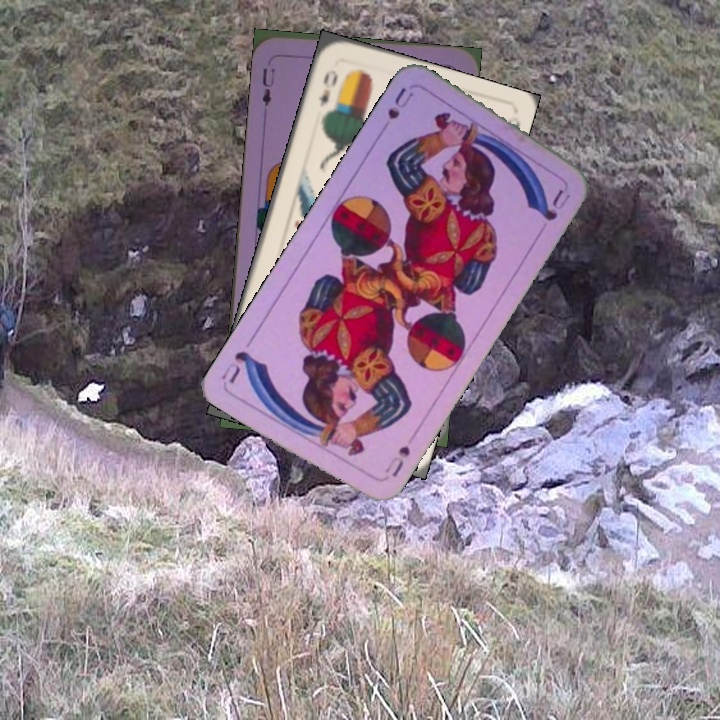EO: (315, 65, 341, 110)
EU: (258, 55, 278, 109)
SU: (375, 83, 416, 137), (388, 442, 413, 480)
